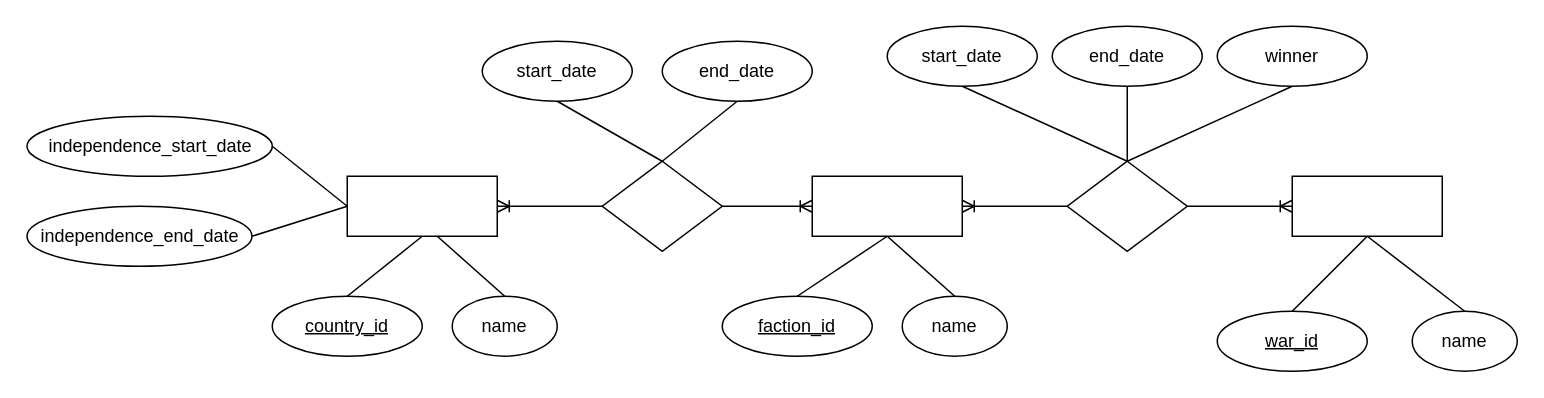
The diagram is 1544 pixels wide and 398 high, and some of its shapes have lost their labels. Each missing label, with the centre of its shape:
"belongs" goes at (x=661, y=205).
"country" goes at (x=421, y=205).
"faction" goes at (x=886, y=205).
"fights" goes at (x=1126, y=205).
"war" goes at (x=1366, y=205).
